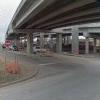Bridge: (5, 1, 89, 53)
